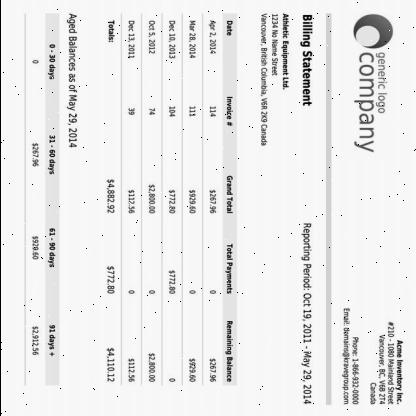Paragraph: (258, 12, 314, 147), (338, 306, 406, 405), (298, 221, 314, 406), (64, 12, 80, 150), (28, 226, 58, 270), (29, 134, 58, 176), (29, 42, 57, 82), (29, 324, 58, 358)
Table: (100, 12, 237, 386)
